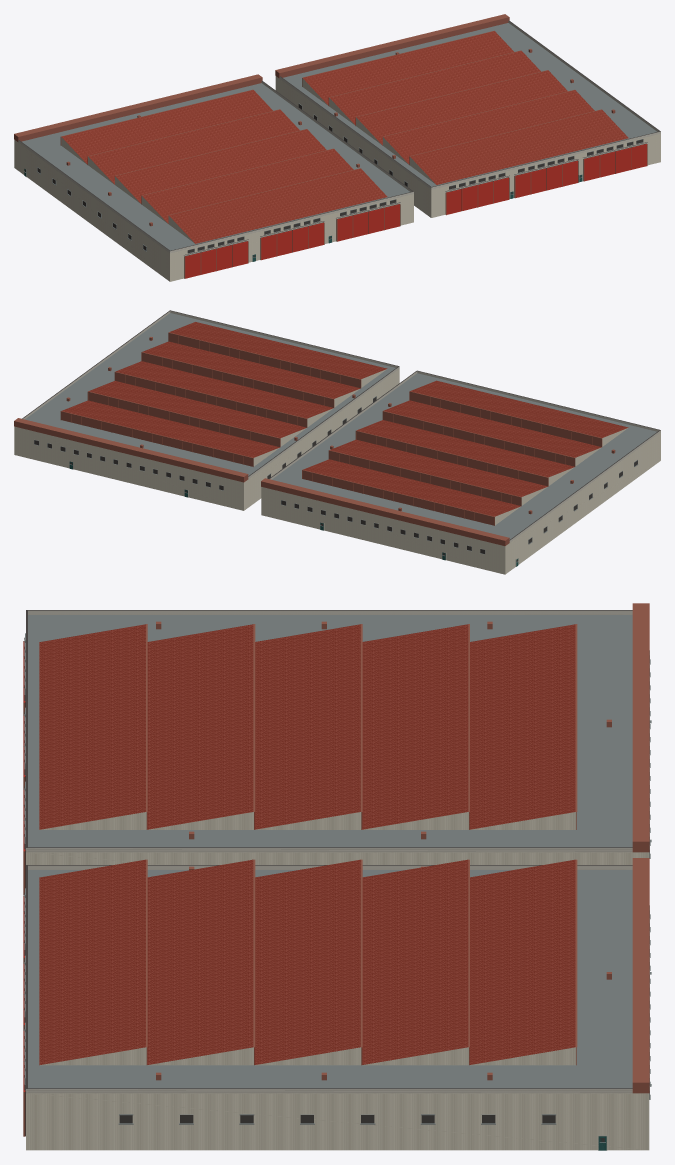
File: cyxd_north_main_lod1.gltf
3 renders of one model, top to bottom at view 1: azimuth 30°, elevation 25°; view 2: azimuth 150°, elevation 25°; view 3: azimuth 270°, elevation 25°, orthographic. The views are drawn at different scales.
Visible parts, largest first — view 1: cyxd_north_main; view 2: cyxd_north_main; view 3: cyxd_north_main.
Part boxes in pixels (box(x1,y1,x2,y2)): cyxd_north_main: box(14, 14, 660, 281); cyxd_north_main: box(14, 310, 660, 574); cyxd_north_main: box(23, 603, 651, 1150).
Bounding box in the file's own units: 172 × 12.5 × 94.82.
